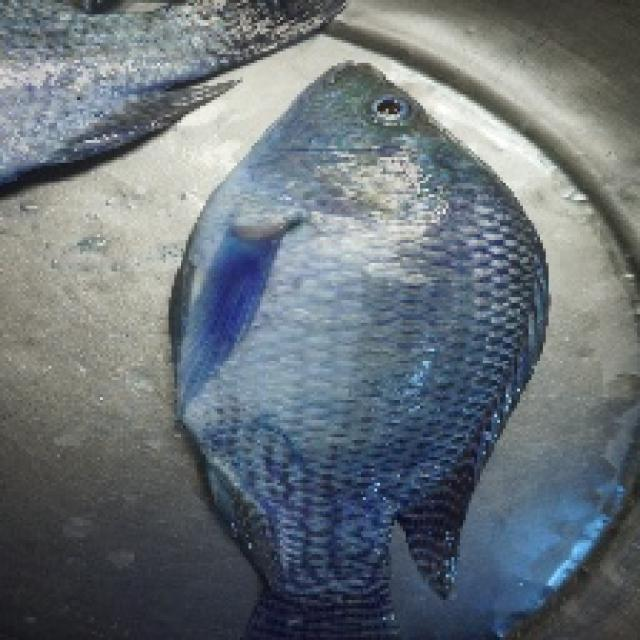Fresh: (191, 54, 510, 489)
